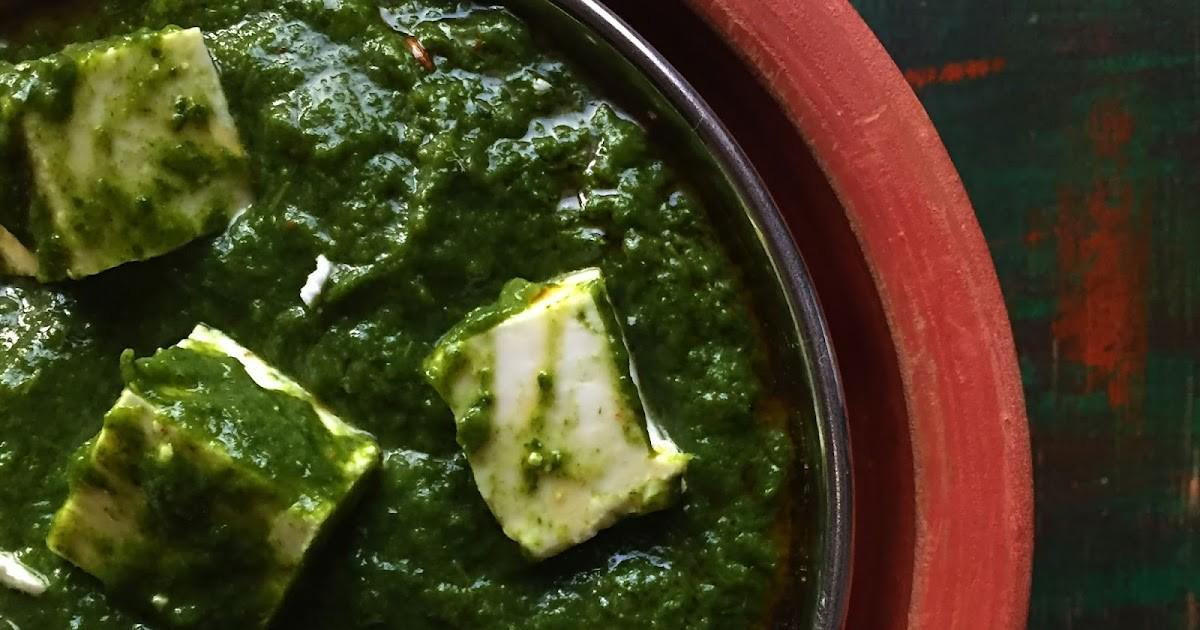PalakPaneer: (7, 0, 802, 630)
